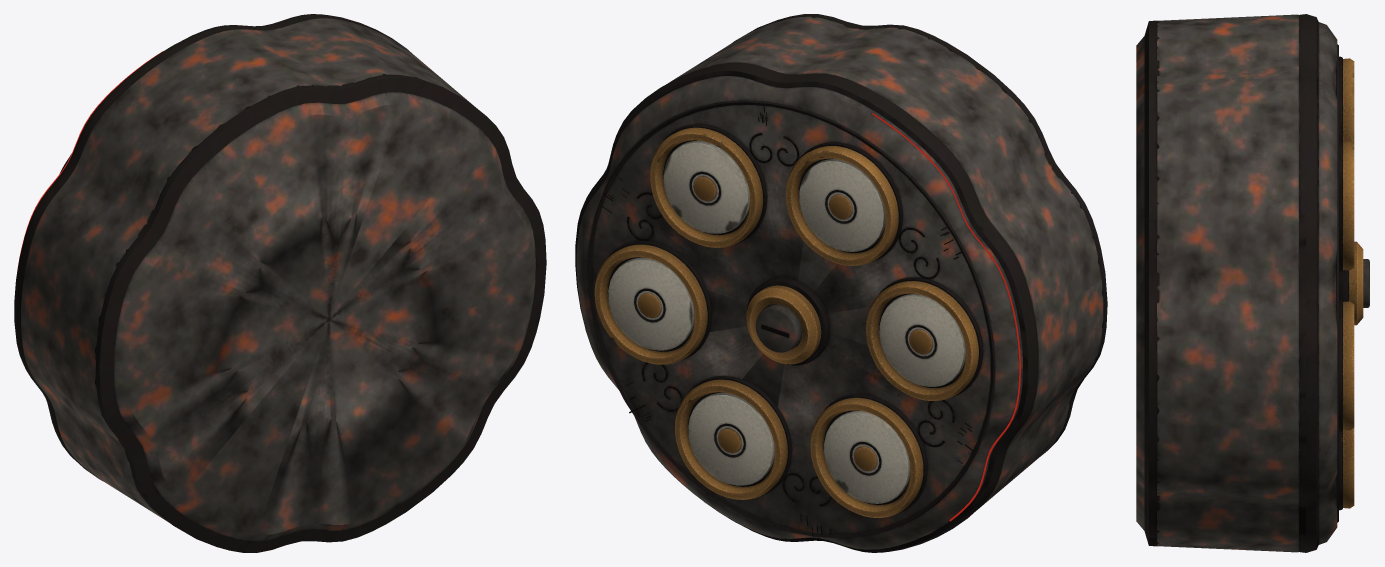
3 renders of one model, left to right at view 1: azimuth 30°, elevation 25°; view 2: azimuth 150°, elevation 25°; view 3: azimuth 270°, elevation 25°, orthographic.
Visible parts, largest first — view 1: Scratched_brown_gunmetal, Heavy_brown_black_ink; view 2: Scratched_brown_gunmetal, Heavy_brown_black_ink, Bone_white_cartridge_bases, Tarnished_chamber_brass, glow_Muted_blood_dusk_edge; view 3: Scratched_brown_gunmetal, Heavy_brown_black_ink, Tarnished_chamber_brass.
Boxes of the visible parts, x1,y1,x2,y2 form: Scratched_brown_gunmetal: (21,18,535,541); Heavy_brown_black_ink: (14,14,546,552); Scratched_brown_gunmetal: (576,16,1103,549); Heavy_brown_black_ink: (575,14,1107,552); Bone_white_cartridge_bases: (608,140,965,503); Tarnished_chamber_brass: (594,127,978,517); glow_Muted_blood_dusk_edge: (872,113,1020,521); Scratched_brown_gunmetal: (1136,14,1369,552); Heavy_brown_black_ink: (1144,14,1348,552); Tarnished_chamber_brass: (1342,58,1363,508).
Size of the model in its own units: 2.6 by 2.58 by 1.13.
5 materials, 4 textured.
